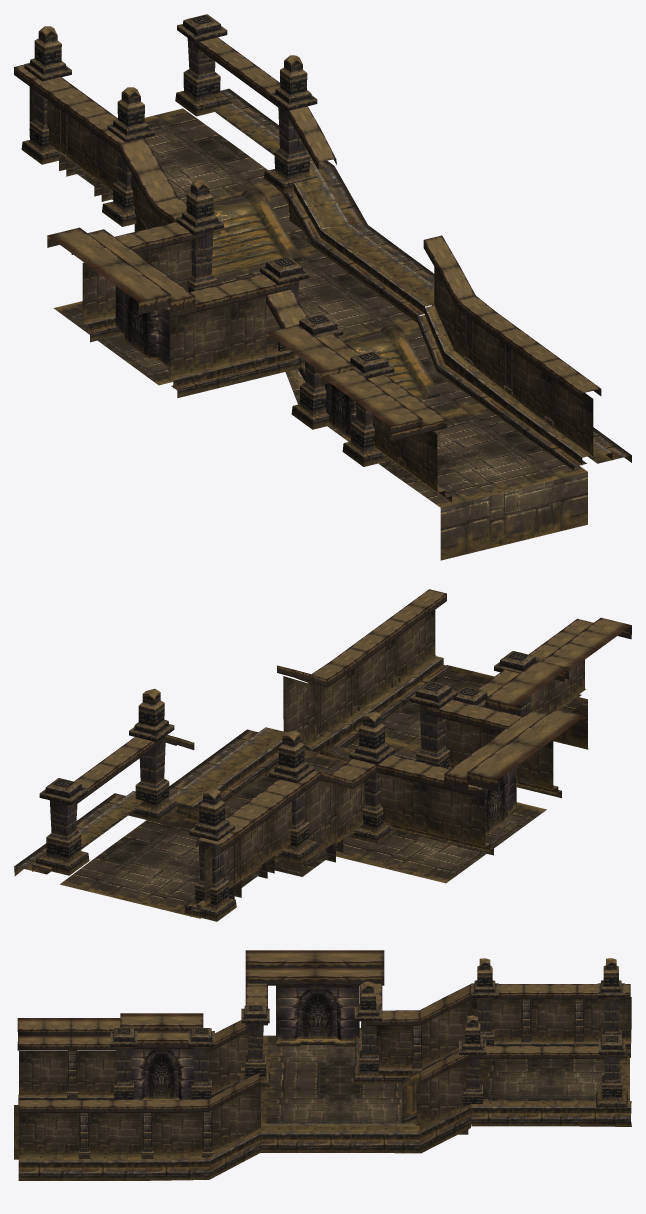
Rendered from 10401_building08.FBX.
3 views of the same model, one above another, from view 1: azimuth 30°, elevation 25°; view 2: azimuth 150°, elevation 25°; view 3: azimuth 270°, elevation 25° (orthographic). The views are drawn at different scales.
Visible parts, largest first — view 1: 10401_building08; view 2: 10401_building08; view 3: 10401_building08.
Part boxes in pixels (bbox=[...]): 10401_building08: bbox=[14, 14, 631, 560]; 10401_building08: bbox=[14, 589, 631, 921]; 10401_building08: bbox=[14, 950, 631, 1180].
Size of the model in its own units: 1548 by 1051 by 3166.
